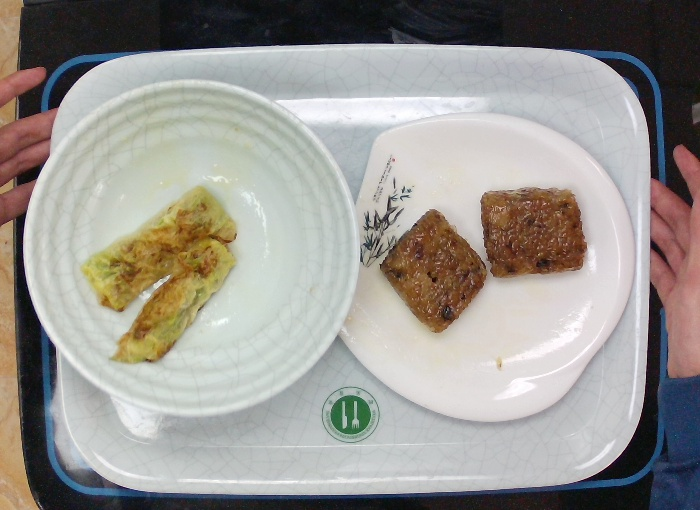JYsf-Da_Tang_Wan: (20, 75, 363, 422)
JYsf-Mian_Pan: (333, 104, 640, 429)
